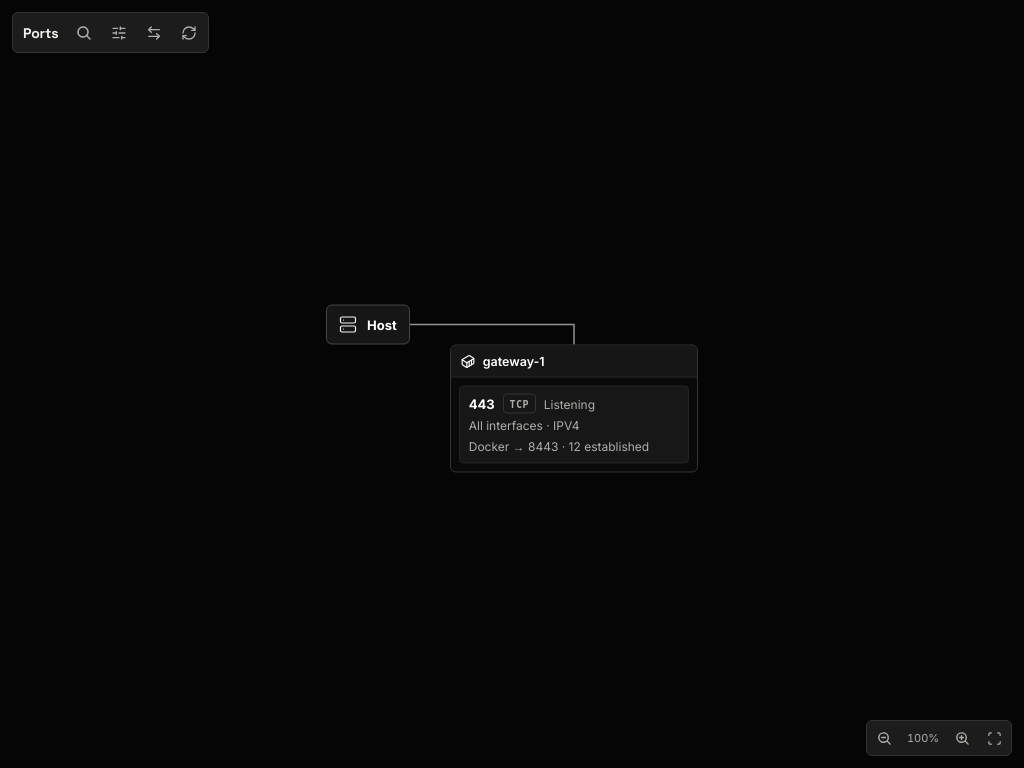
Test case: PortsPane › keeps saved connection evidence visible and reports a refresh failure
Expected: the button "12 established" is shown, [459,386,689,464]
Click the button named "Refresh ports".
click(189, 32)  # box [173,17,204,48]
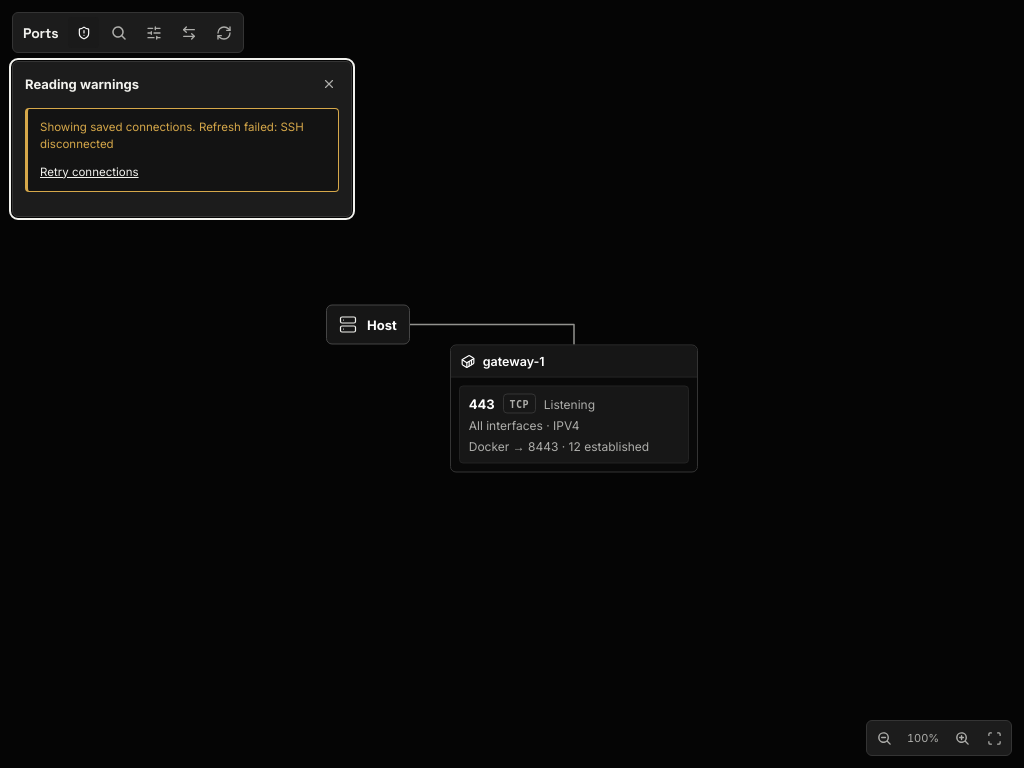
Expected: the button "12 established" is shown, [459,386,689,464]
Result: the text "Showing saved connections. Refresh failed: SSH disconnected" is shown at [25,108,339,192]
Result: the button "Retry connections" is shown at [40,164,138,181]
